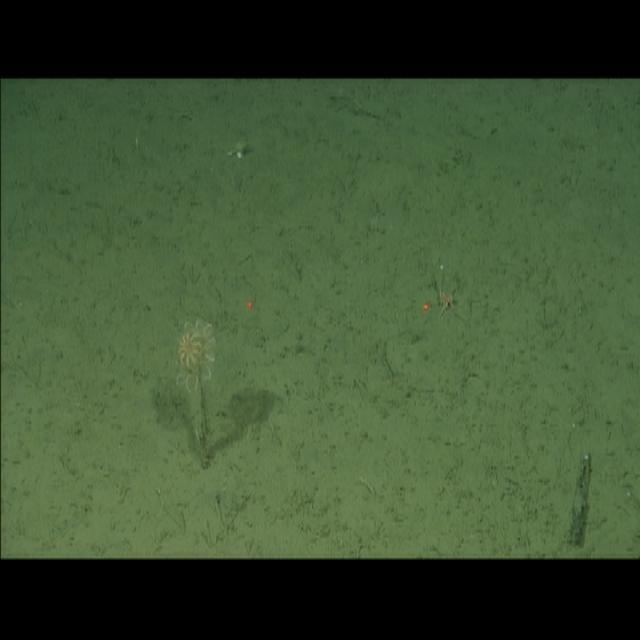Brittle Star: (432, 279, 461, 323)
Not Brittle Star: (172, 316, 218, 382), (176, 326, 204, 368), (225, 136, 254, 163)
